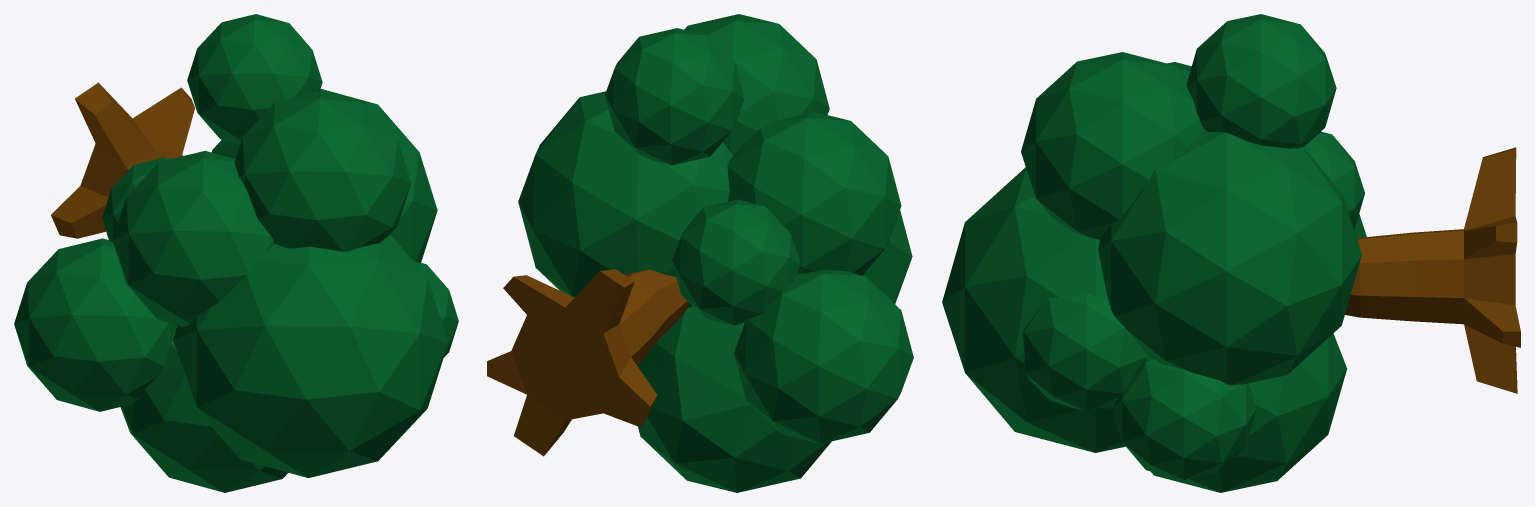
File: tree.obj
3 renders of one model, left to right at view 1: azimuth 30°, elevation 25°; view 2: azimuth 150°, elevation 25°; view 3: azimuth 270°, elevation 25°, orthographic. The views are drawn at different scales.
Visible parts, largest first — view 1: Tree_Plane; view 2: Tree_Plane; view 3: Tree_Plane.
Part boxes in pixels (x1=…): Tree_Plane: x1=14, y1=14, x2=458, y2=492; Tree_Plane: x1=487, y1=14, x2=913, y2=492; Tree_Plane: x1=942, y1=14, x2=1520, y2=492.
Bounding box in the file's own units: 3.73 × 4.26 × 4.57.
